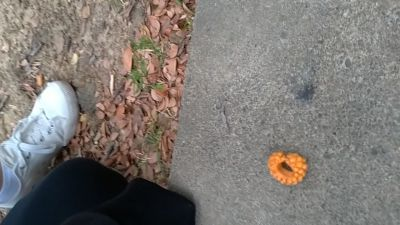eggs: (266, 150, 309, 187)
